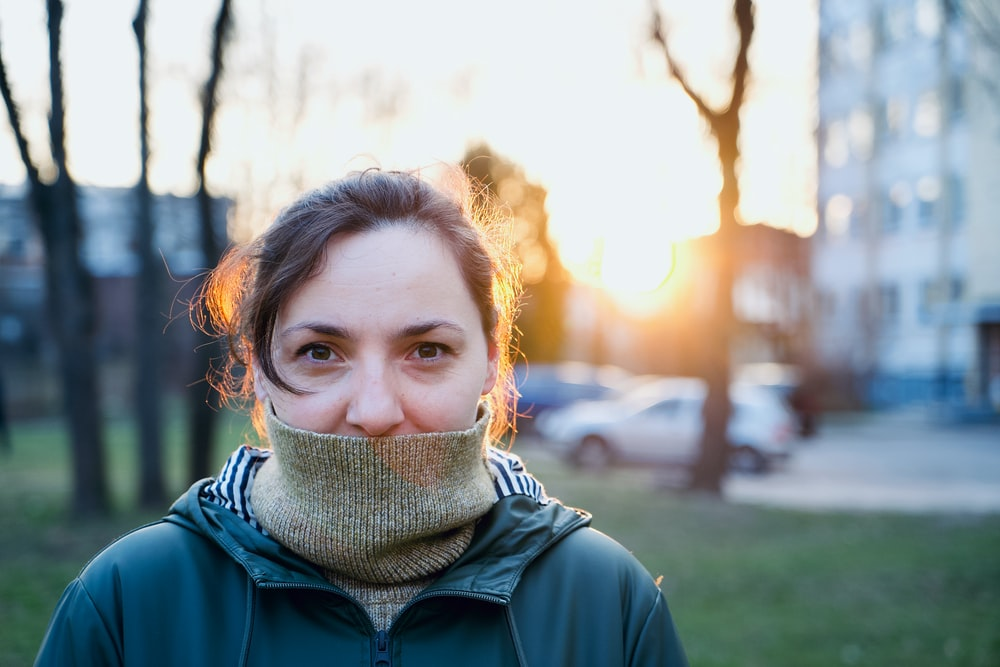face: (236, 220, 530, 527)
